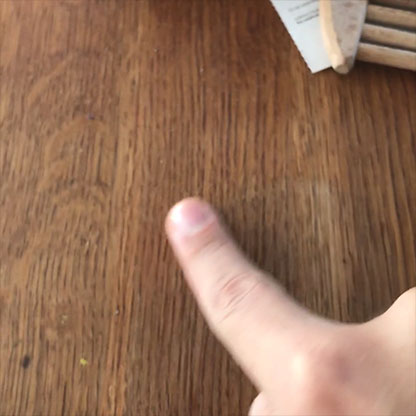fingertip: (160, 186, 239, 254)
